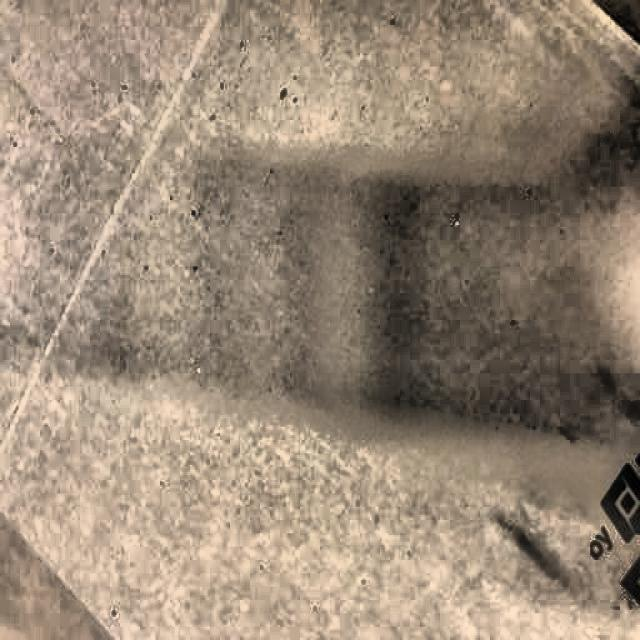cardboard: (4, 17, 640, 636)
